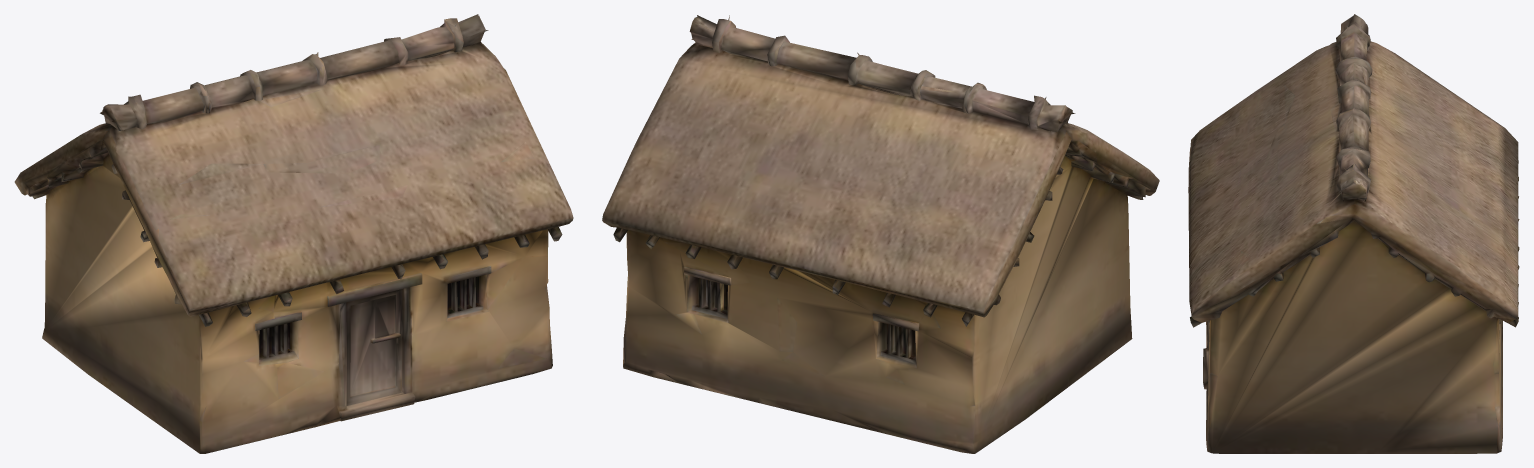
File: hut_lod1.glb
3 views of the same model, side by side, from view 1: azimuth 30°, elevation 25°; view 2: azimuth 150°, elevation 25°; view 3: azimuth 270°, elevation 25° (orthographic). The views are drawn at different scales.
Visible parts, largest first — view 1: node_0; view 2: node_0; view 3: node_0.
Part boxes in pixels (bbox=[...]): node_0: bbox=[14, 14, 573, 453]; node_0: bbox=[602, 15, 1159, 453]; node_0: bbox=[1188, 14, 1519, 453].
Size of the model in its own units: 0.8638 by 0.6361 by 0.6899.
1 material, 1 textured.
